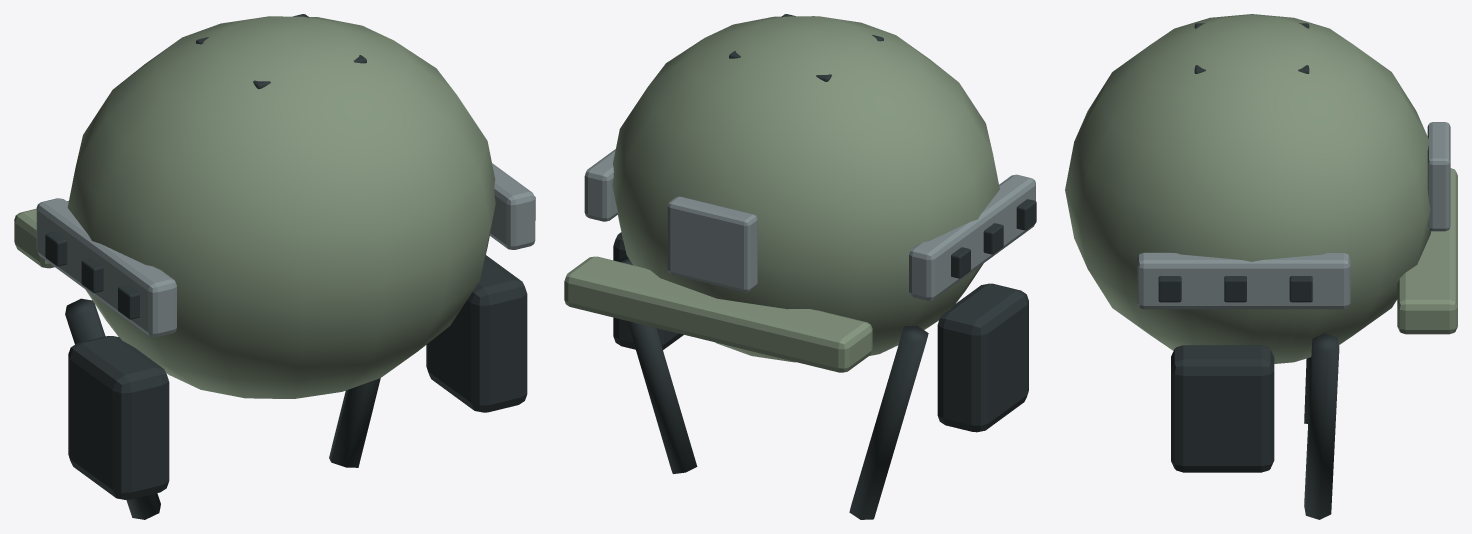
The model's file is helmet_moss_1a.glb.
3 views of the same model, side by side, from view 1: azimuth 30°, elevation 25°; view 2: azimuth 150°, elevation 25°; view 3: azimuth 270°, elevation 25° (orthographic). The views are drawn at different scales.
Parts seen in each view (by area): view 1: helmet_moss_1a; view 2: helmet_moss_1a; view 3: helmet_moss_1a.
Part boxes in pixels (<box>): helmet_moss_1a: <box>14,14,535,519</box>; helmet_moss_1a: <box>564,14,1036,519</box>; helmet_moss_1a: <box>1065,14,1457,519</box>.
Size of the model in its own units: 0.263 by 0.2936 by 0.2395.
